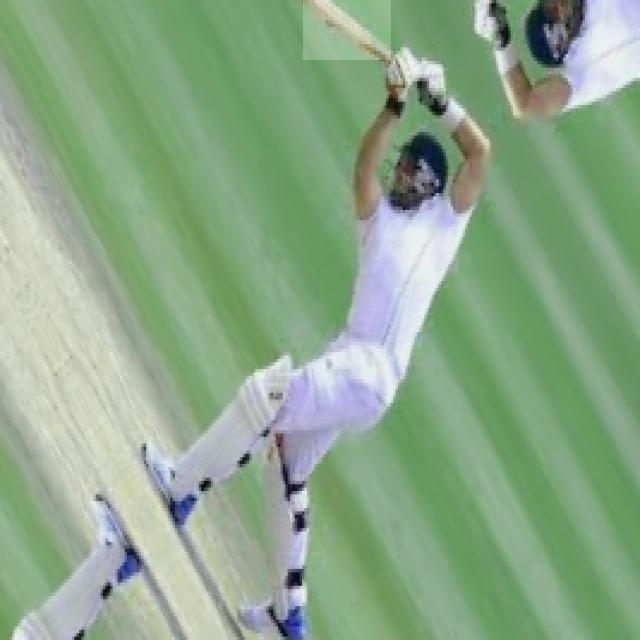bat: (301, 0, 389, 60)
